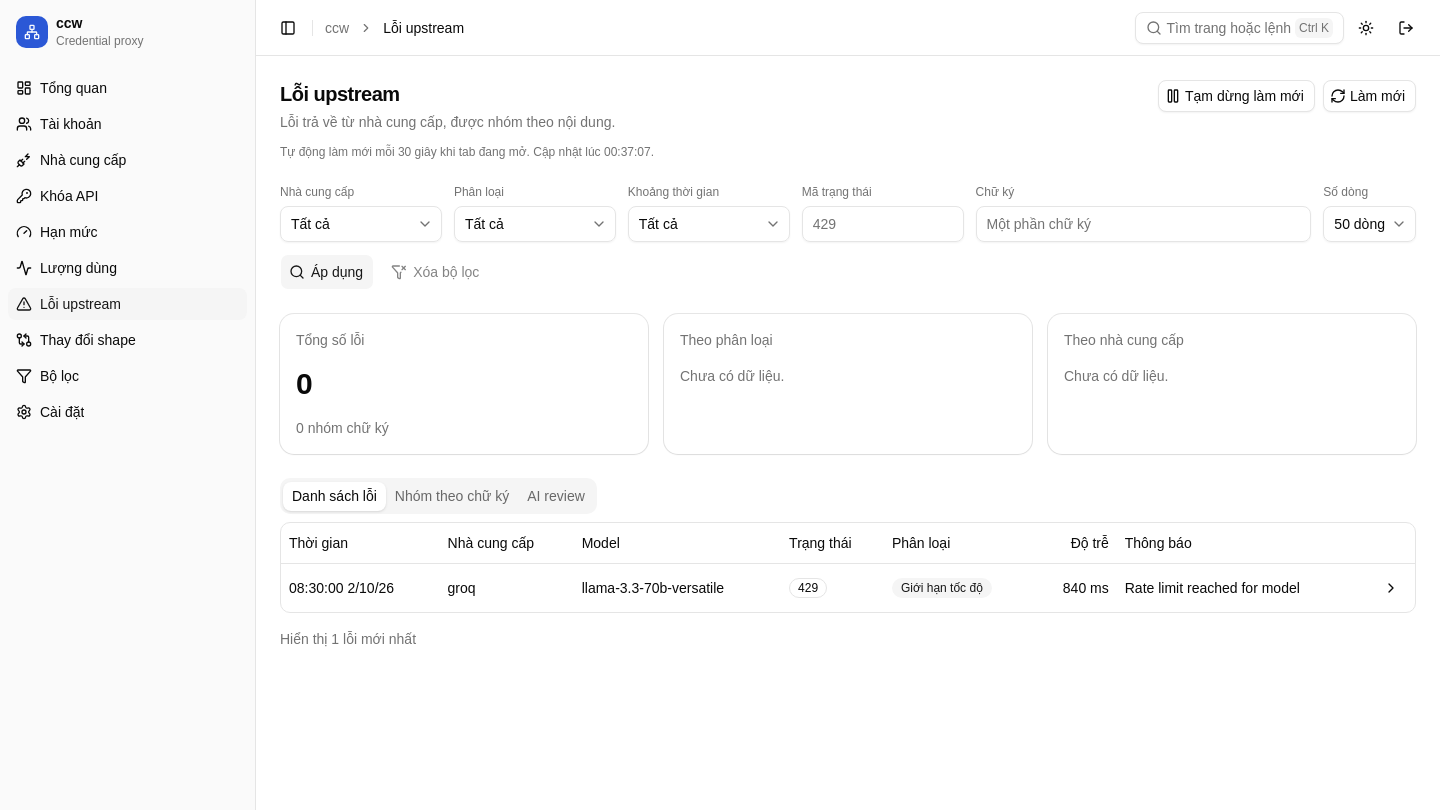
errors page › says so when the server hid the bodies
The image size is (1440, 810).
Click the button named "Xem chi tiết lỗi #12": (1391, 588) [1375,572,1407,604]
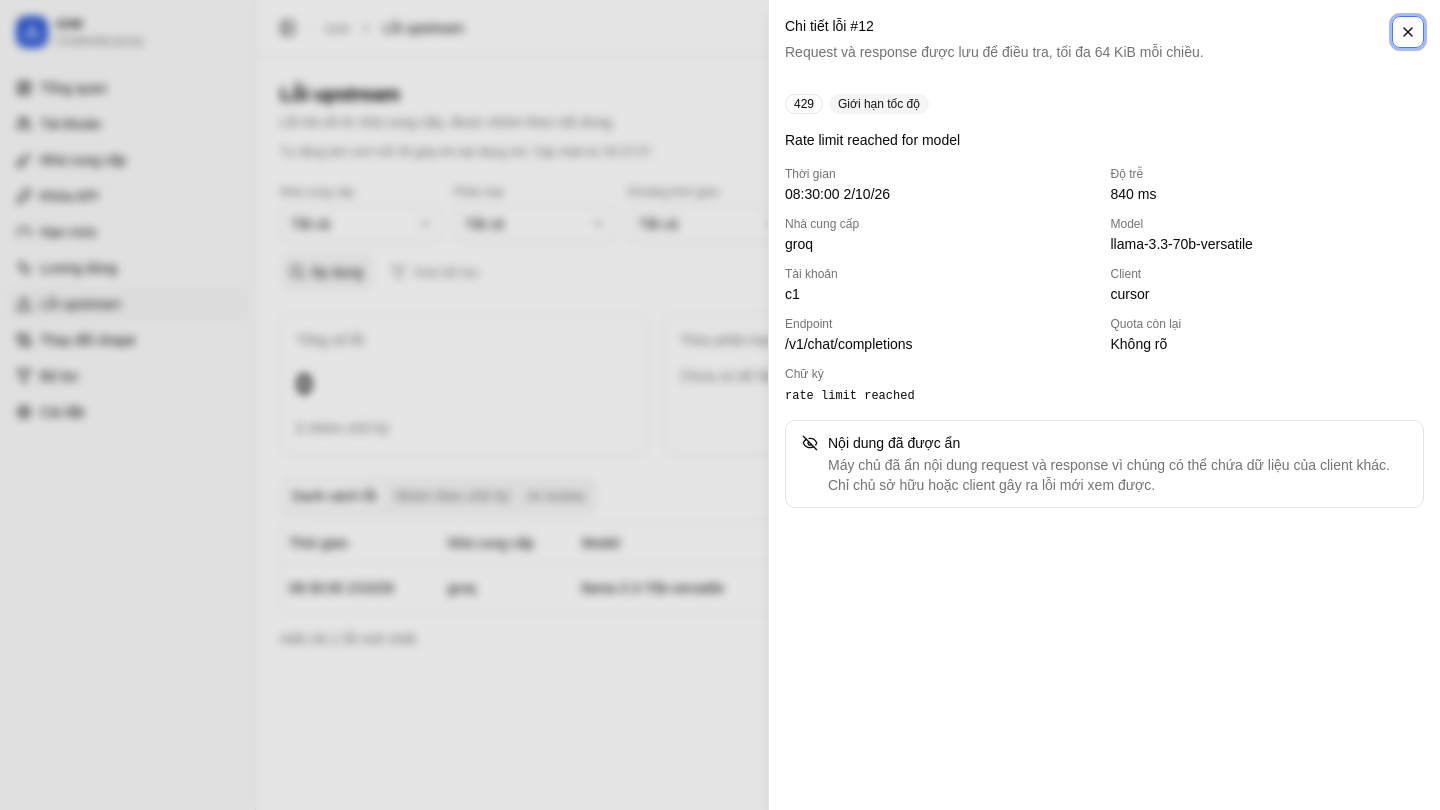
Now the text "Máy chủ đã ẩn nội dung" is shown, box [828,457,1390,493]
